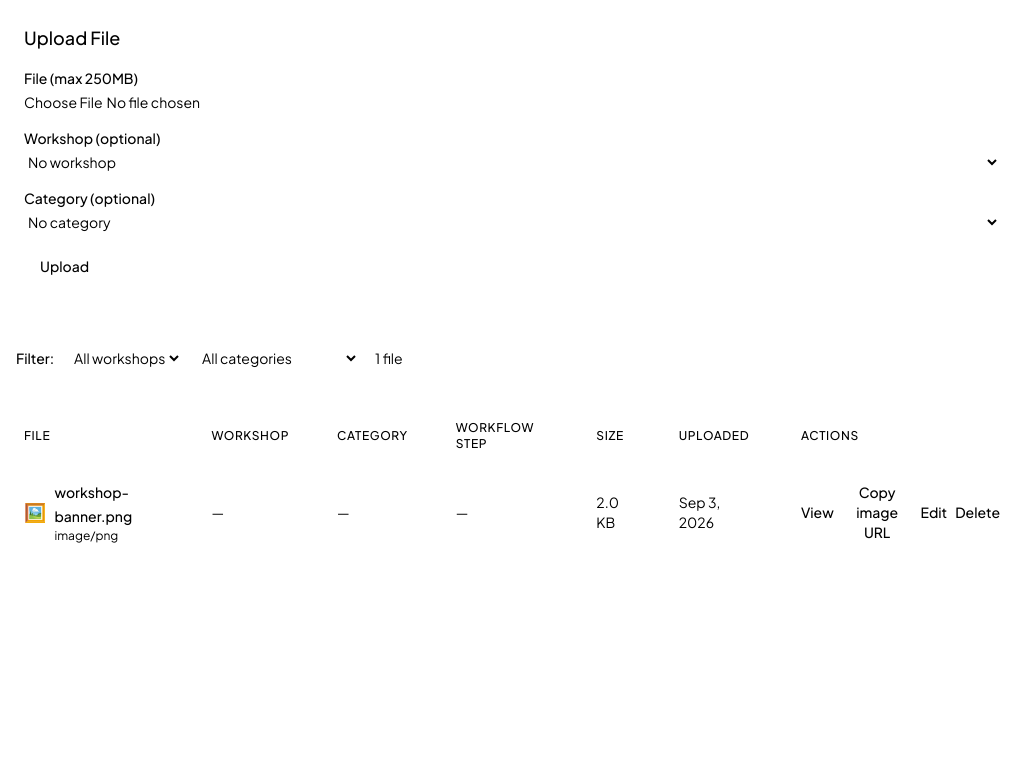
FileManager image URLs › copies an image's public URL from the desktop file table
The width and height of the screenshot is (1024, 768).
Click the button "Copy image URL" at (877,512), box x1=842 y1=482 x2=912 y2=542
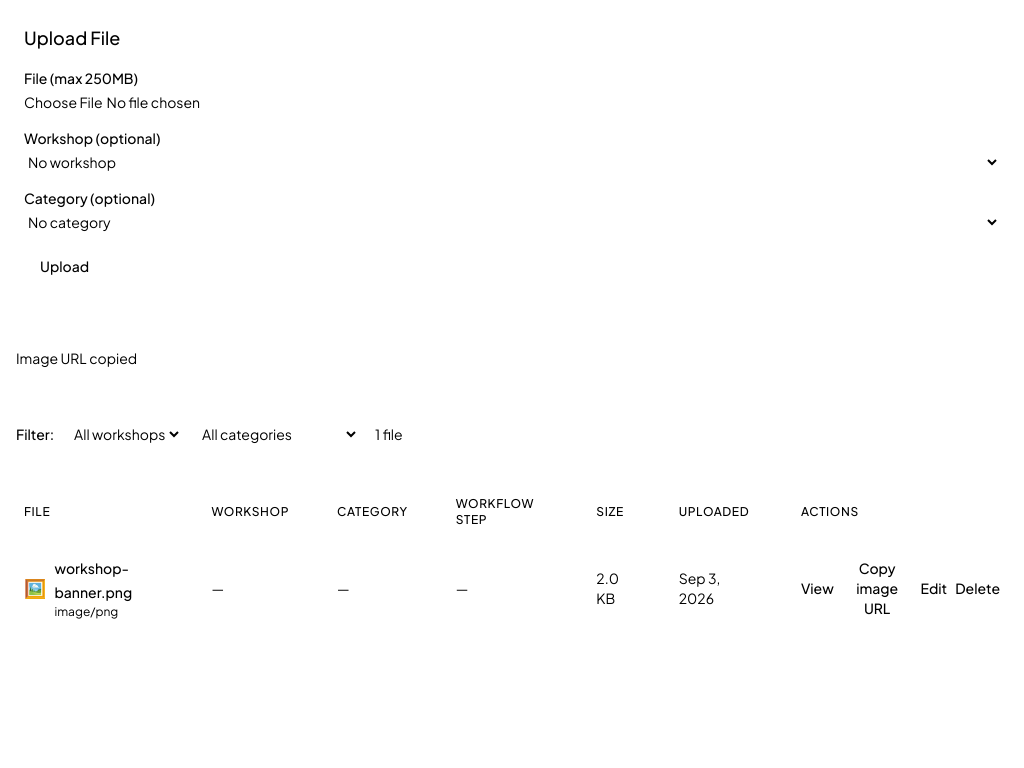
Expected: the message reads "Image URL copied", x1=16 y1=349 x2=137 y2=367
